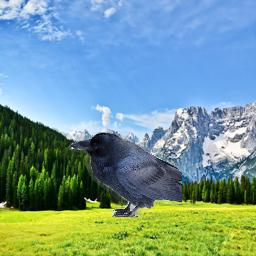Crow: (69, 132, 182, 217)
